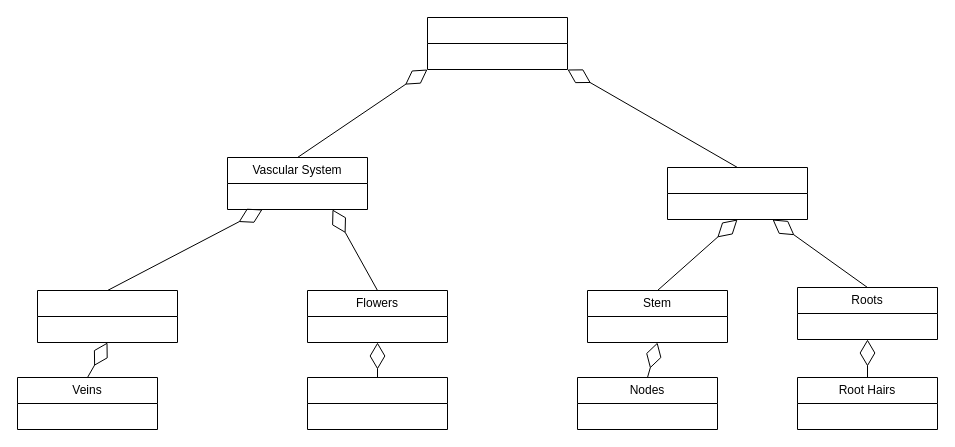
The diagram is 955 pixels wide and 447 high, and some of its shapes have lost their labels. Each missing label, with the box of its shape:
Leaves: (36, 290, 178, 342)
Petals: (306, 376, 448, 430)
Plant: (426, 16, 568, 70)
Support System: (666, 166, 808, 220)
